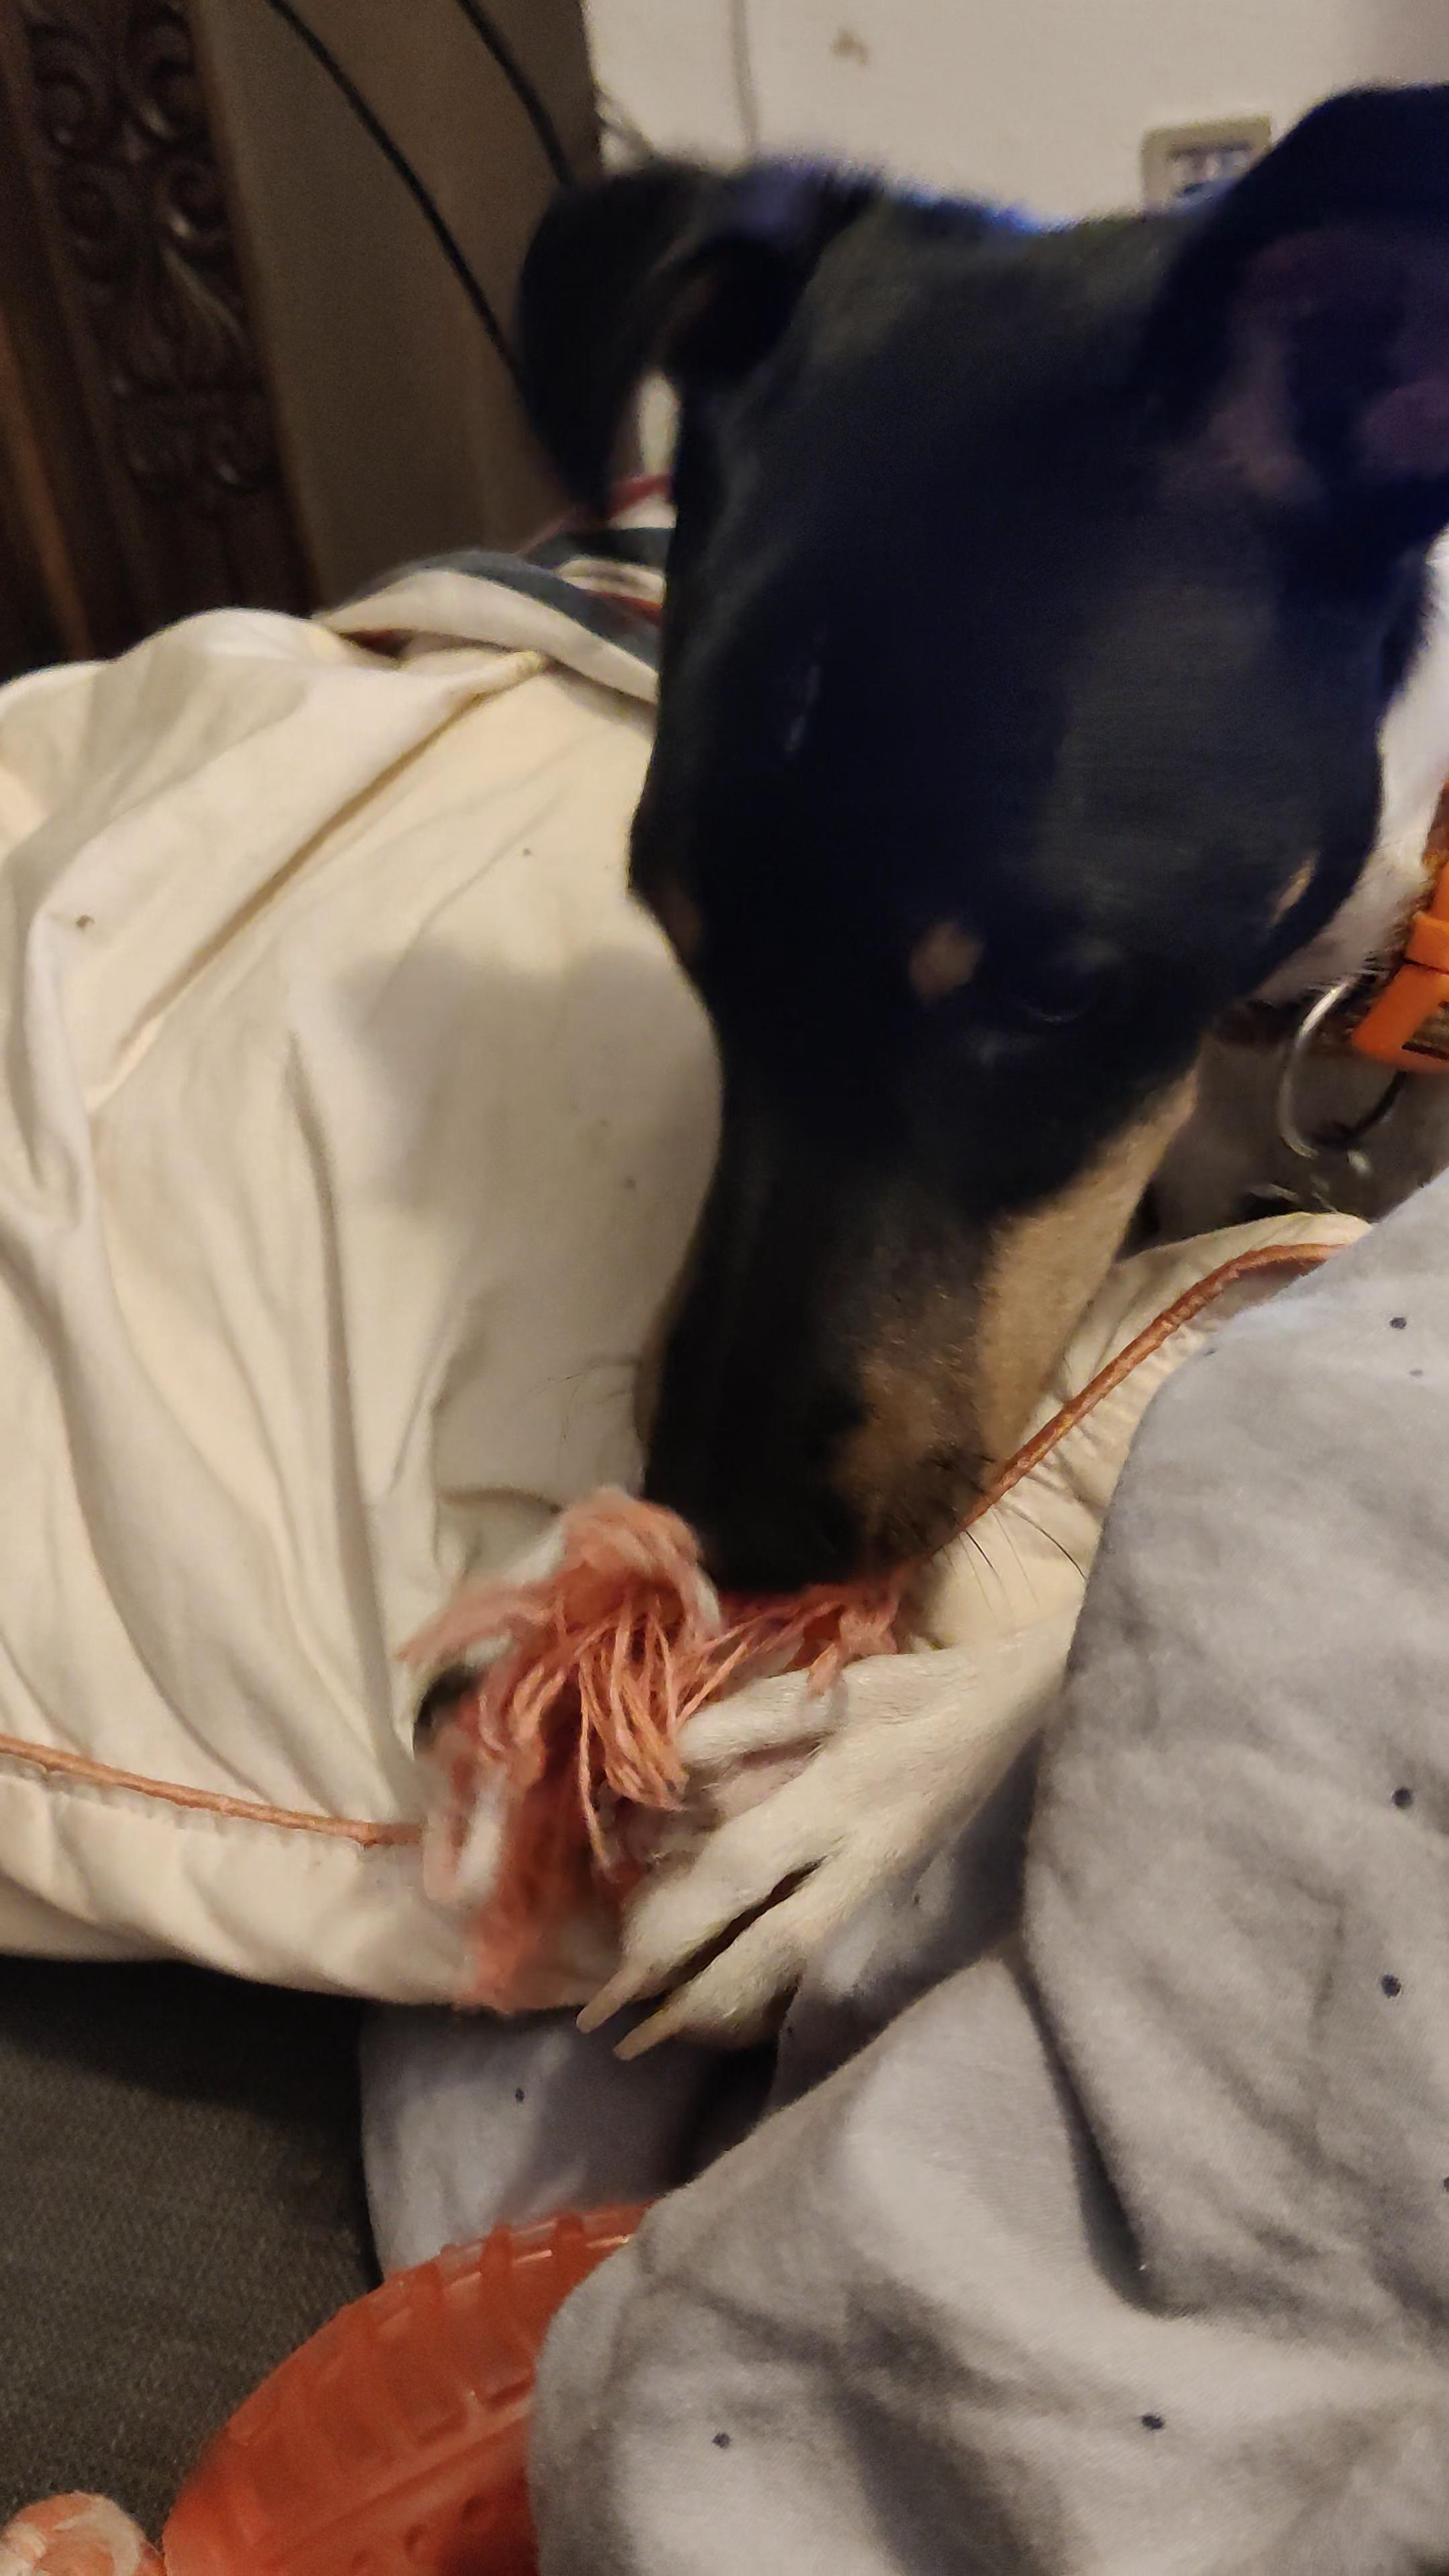Dog: (389, 62, 1449, 2084)
